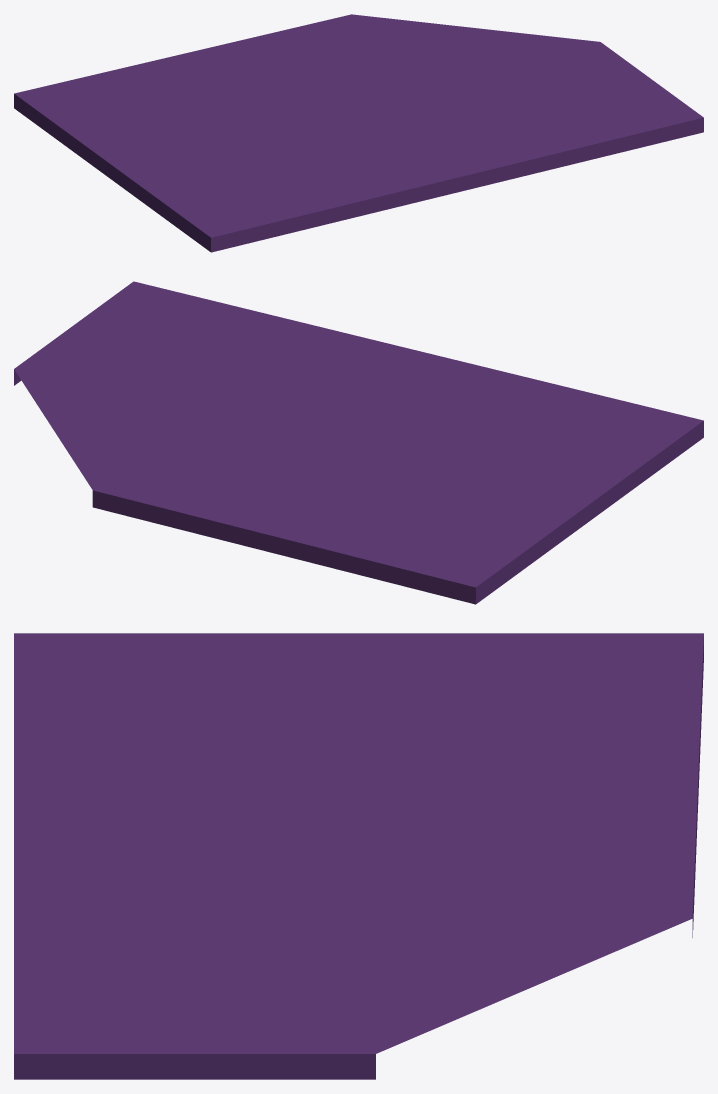
The model's file is Structure_Floor_Second_VIP_fbx_v01.fbx.
3 views of the same model, one above another, from view 1: azimuth 30°, elevation 25°; view 2: azimuth 150°, elevation 25°; view 3: azimuth 270°, elevation 25° (orthographic). The views are drawn at different scales.
Parts seen in each view (by area): view 1: pCube5; view 2: pCube5; view 3: pCube5.
Boxes of the visible parts, bbox=[...] form: pCube5: bbox=[14, 14, 703, 252]; pCube5: bbox=[14, 281, 703, 604]; pCube5: bbox=[14, 633, 703, 1079].
Size of the model in its own units: 3500 by 100 by 2425.
